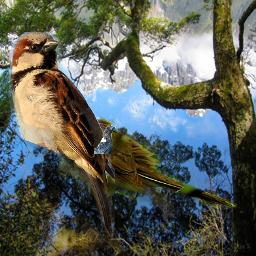Crow: (94, 125, 116, 154)
Cuckoo: (35, 105, 237, 210)
Swallow: (8, 32, 115, 237)
